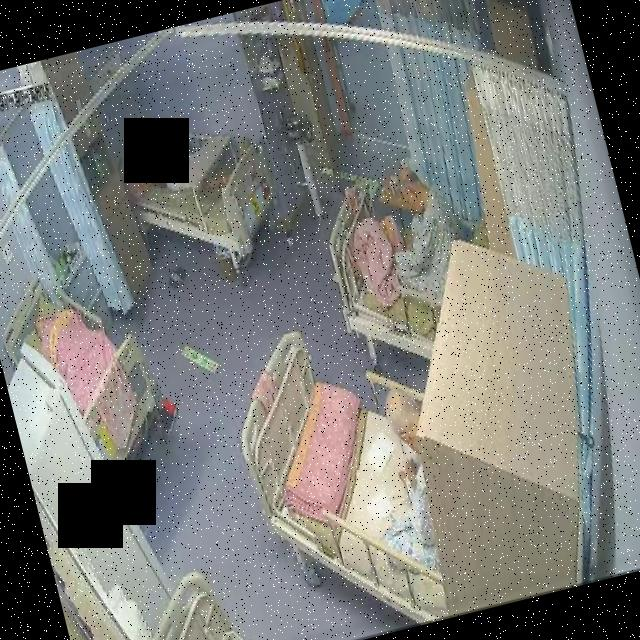bed: (217, 308, 462, 640), (0, 252, 178, 503), (314, 162, 482, 378), (114, 94, 288, 278)
lie: (135, 123, 232, 203)
patient: (351, 379, 469, 581), (362, 160, 468, 314), (135, 122, 232, 203)
sit: (351, 380, 468, 578), (362, 159, 468, 312)
